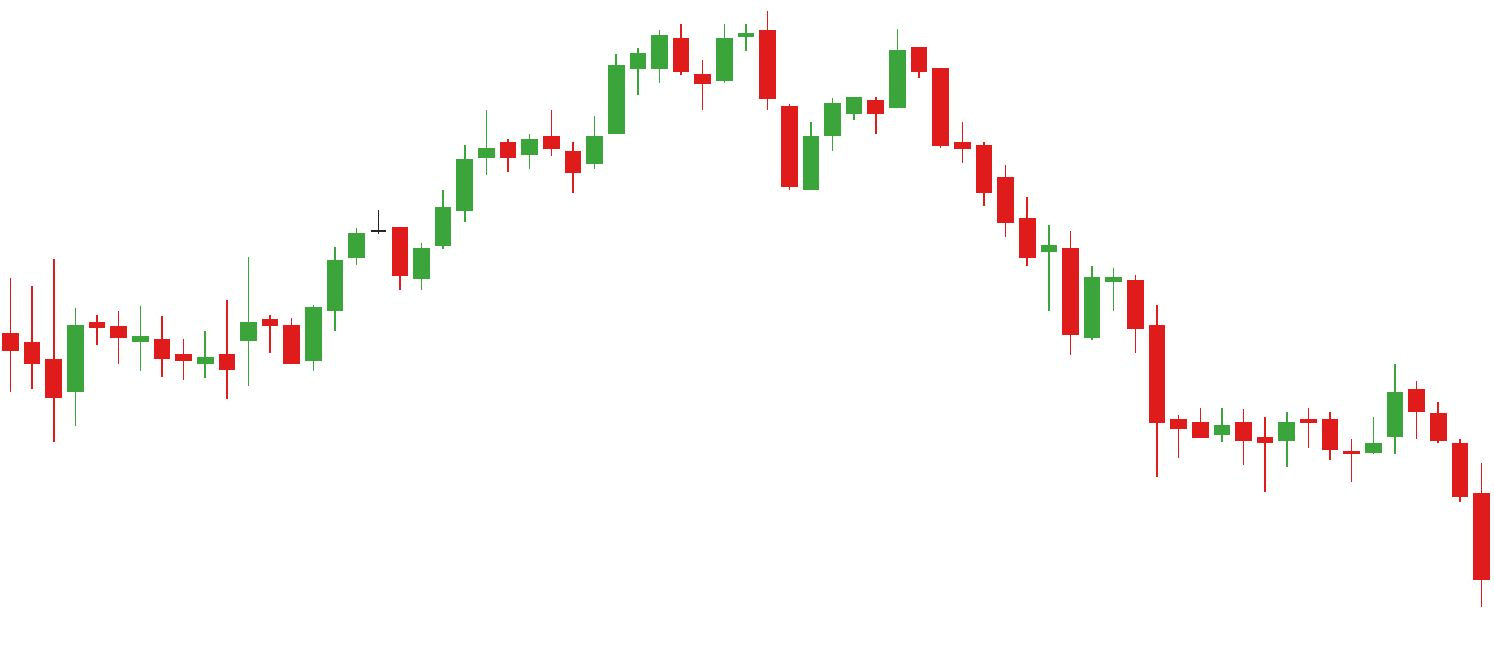buy: (559, 58, 824, 193)
